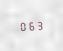six: (27, 20, 34, 30)
three: (35, 19, 42, 30)
zero: (18, 20, 25, 31)
